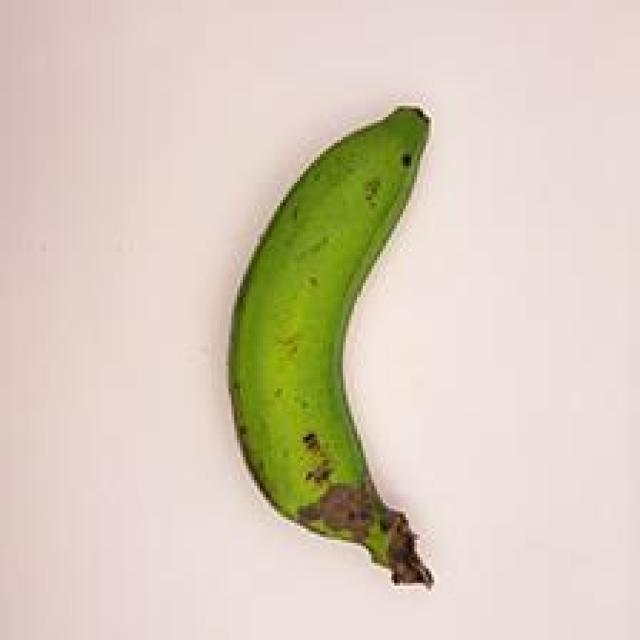Raw: (200, 83, 476, 594)
